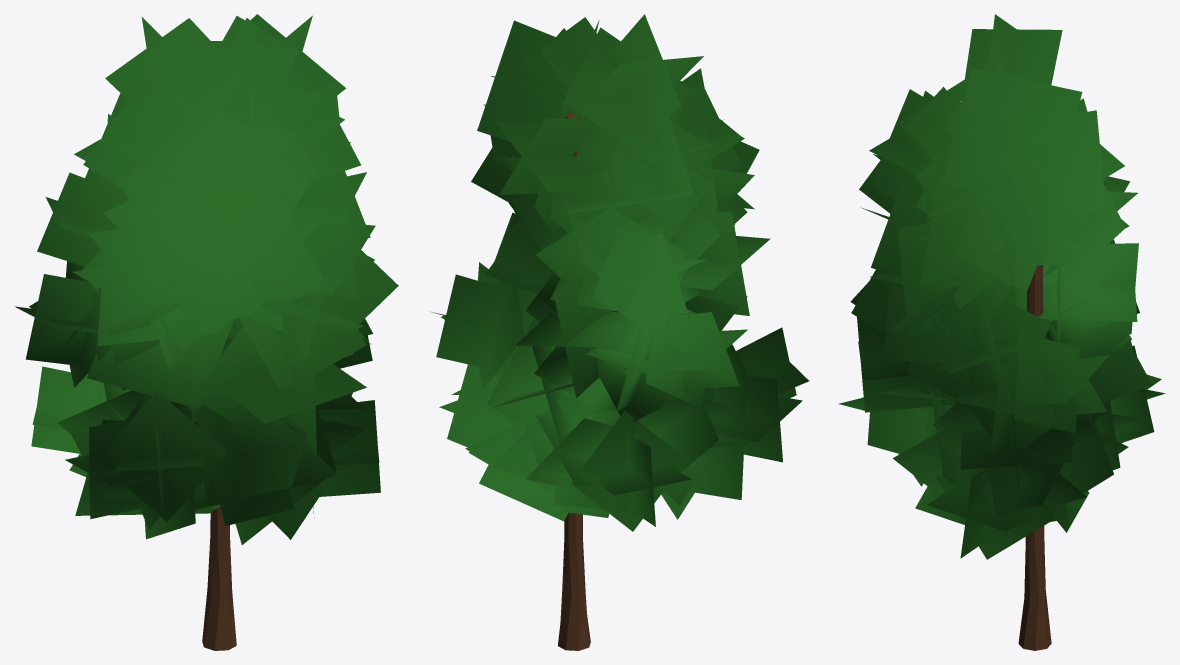
The model's file is SM_tree_03.fbx.
3 views of the same model, side by side, from view 1: azimuth 30°, elevation 25°; view 2: azimuth 150°, elevation 25°; view 3: azimuth 270°, elevation 25° (orthographic). The views are drawn at different scales.
Parts seen in each view (by area): view 1: Line013; view 2: Line013; view 3: Line013.
Boxes of the visible parts, x1,y1,x2,y2 form: Line013: (15, 14, 398, 650); Line013: (430, 14, 809, 650); Line013: (838, 14, 1165, 650).
Size of the model in its own units: 121 by 233 by 114.
